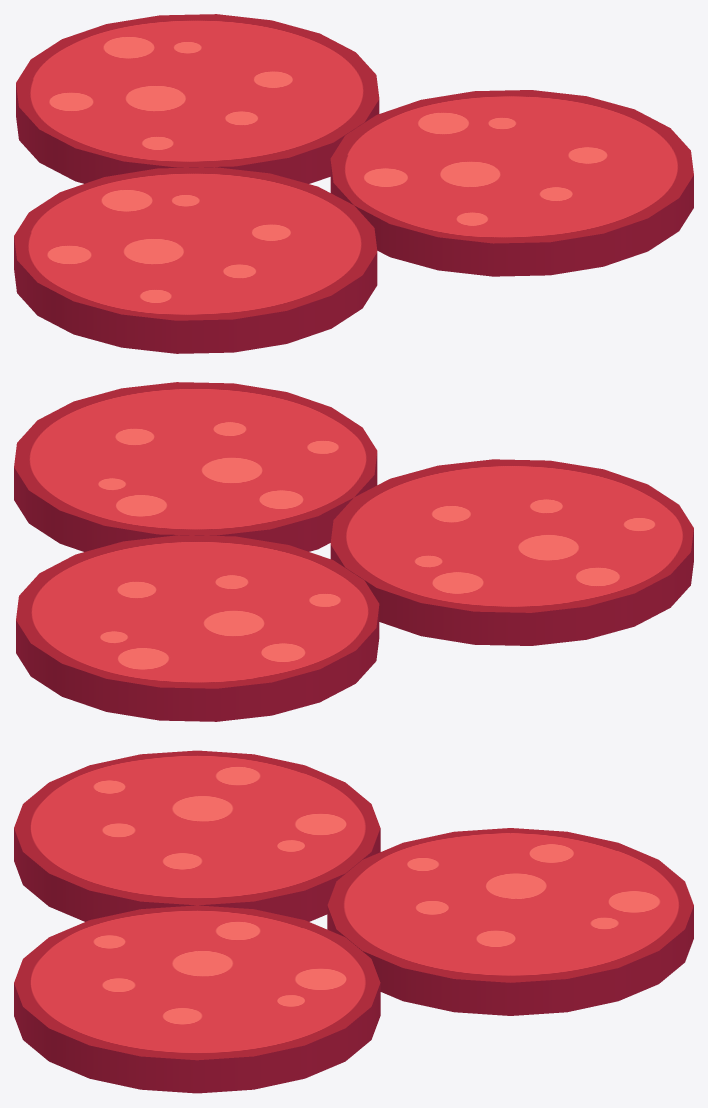
The model's file is Salami_Slice_Salami_0.glb.
3 renders of one model, top to bottom at view 1: azimuth 30°, elevation 25°; view 2: azimuth 150°, elevation 25°; view 3: azimuth 270°, elevation 25°, orthographic.
Parts seen in each view (by area): view 1: Salami_Slice_Salami_0; view 2: Salami_Slice_Salami_0; view 3: Salami_Slice_Salami_0.
Boxes of the visible parts, box(x1,y1,x2,y2) form: Salami_Slice_Salami_0: box(14, 14, 693, 353); Salami_Slice_Salami_0: box(14, 382, 693, 721); Salami_Slice_Salami_0: box(14, 750, 693, 1093).
Bounding box in the file's own units: 0.2 × 0.01 × 0.1855.
1 material, 1 textured.
